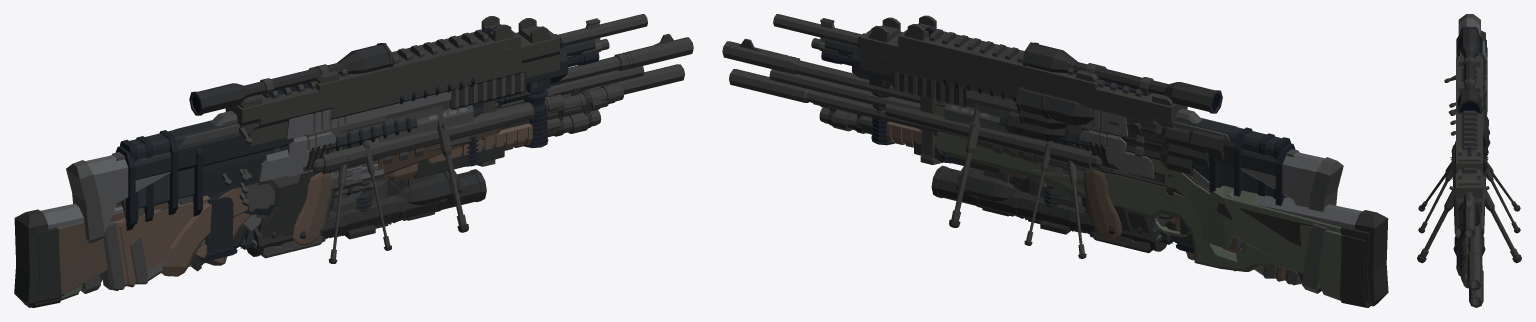
Rendered from armes.glb.
3 renders of one model, left to right at view 1: azimuth 30°, elevation 25°; view 2: azimuth 150°, elevation 25°; view 3: azimuth 270°, elevation 25°, orthographic. The views are drawn at different scales.
Visible parts, largest first — view 1: SniperRifle_5, SubmachineGun_5, SubmachineGun_2, SubmachineGun_3, Shotgun_SawedOff, SniperRifle_6, Bullpup_1, SniperRifle_2, AssaultRifle2_3, Shotgun_2, Shotgun_ShortStock, Pistol_6 (+20 smaller); view 2: SniperRifle_3, SniperRifle_5, SniperRifle_1, SniperRifle_2, SniperRifle_4, SubmachineGun_5, SubmachineGun_2, SubmachineGun_3, Bullpup_1, Shotgun_SawedOff, Pistol_6, Pistol_3 (+19 smaller); view 3: SniperRifle_5, SubmachineGun_2, SniperRifle_2, SubmachineGun_5, Bipod, Bullpup_1, SniperRifle_3, Shotgun_SawedOff, SubmachineGun_1, SniperRifle_1, Tripod, Shotgun_2 (+4 smaller).
Part boxes in pixels (bbox=[...]): SniperRifle_5: bbox=[66, 14, 647, 243]; SubmachineGun_5: bbox=[138, 18, 581, 228]; SubmachineGun_2: bbox=[174, 16, 520, 220]; SubmachineGun_3: bbox=[329, 59, 526, 214]; Shotgun_SawedOff: bbox=[195, 102, 534, 265]; SniperRifle_6: bbox=[37, 57, 620, 301]; Bullpup_1: bbox=[115, 34, 599, 249]; SniperRifle_2: bbox=[14, 37, 693, 307]; AssaultRifle2_3: bbox=[200, 90, 531, 261]; Shotgun_2: bbox=[106, 83, 623, 290]; Shotgun_ShortStock: bbox=[161, 94, 564, 276]; Pistol_6: bbox=[252, 105, 473, 258]; SniperRifle_3: bbox=[729, 69, 1371, 307]; SniperRifle_5: bbox=[773, 14, 1343, 227]; SniperRifle_1: bbox=[739, 38, 1369, 303]; SniperRifle_2: bbox=[722, 41, 1388, 306]; SniperRifle_4: bbox=[769, 69, 1326, 293]; SubmachineGun_5: bbox=[838, 17, 1269, 223]; SubmachineGun_2: bbox=[898, 15, 1237, 216]; SubmachineGun_3: bbox=[892, 58, 1082, 210]; Bullpup_1: bbox=[821, 33, 1295, 244]; Shotgun_SawedOff: bbox=[885, 104, 1194, 260]; Pistol_6: bbox=[944, 103, 1161, 253]; Pistol_3: bbox=[974, 103, 1127, 246]; SniperRifle_5: bbox=[1417, 14, 1521, 263]; SubmachineGun_2: bbox=[1456, 51, 1482, 172]; SniperRifle_2: bbox=[1449, 30, 1489, 290]; SubmachineGun_5: bbox=[1456, 168, 1482, 214]; Bipod: bbox=[1418, 159, 1520, 233]; Bullpup_1: bbox=[1456, 33, 1482, 269]; SniperRifle_3: bbox=[1450, 47, 1488, 307]; Shotgun_SawedOff: bbox=[1451, 144, 1486, 238]; SubmachineGun_1: bbox=[1456, 56, 1482, 137]; SniperRifle_1: bbox=[1450, 40, 1488, 285]; Tripod: bbox=[1418, 157, 1520, 211]; Shotgun_2: bbox=[1462, 246, 1468, 288].
Bounding box in the file's own units: 7.41 × 1.9 × 1.25.
